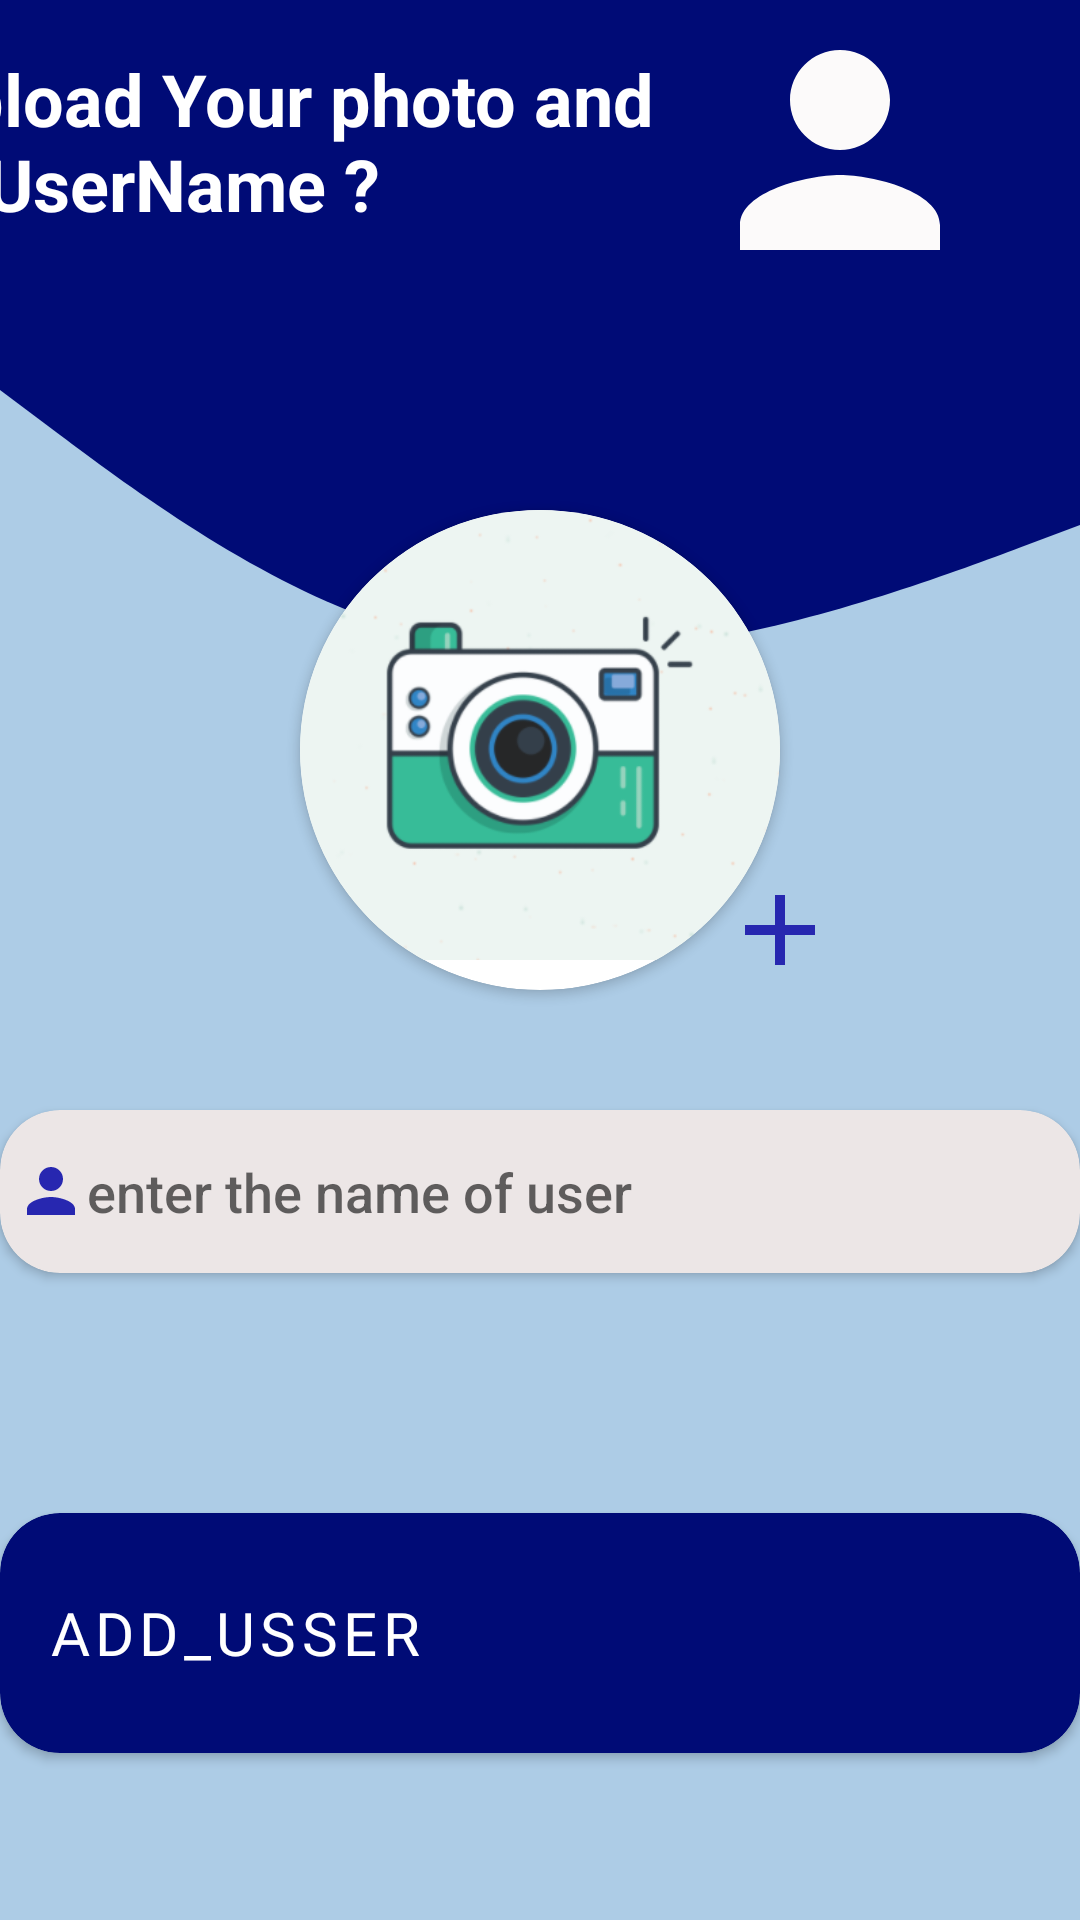

Icon bounding boxes for this 1080*1920 phone screenshot, format (x1, y1, x2, y2):
add: (745, 895, 815, 965)
person: (740, 50, 940, 250)
